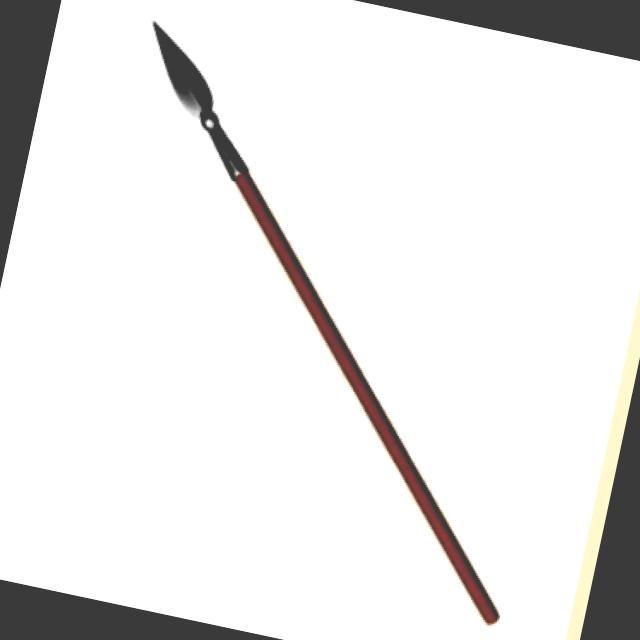spear: (36, 0, 630, 637)
